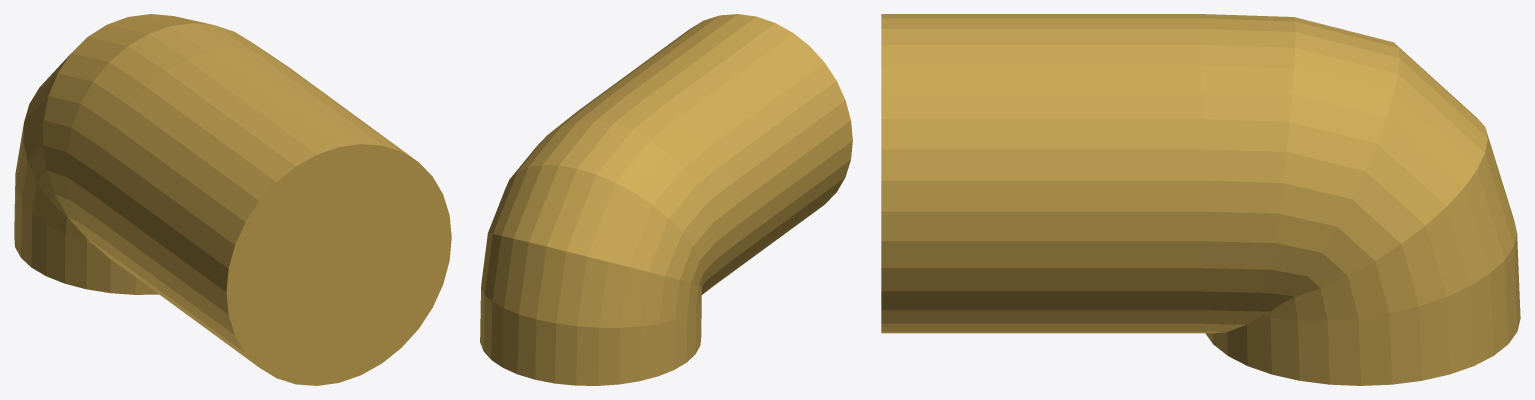
Rendered from Engine-railing2.glb.
3 renders of one model, left to right at view 1: azimuth 30°, elevation 25°; view 2: azimuth 150°, elevation 25°; view 3: azimuth 270°, elevation 25°, orthographic. The views are drawn at different scales.
Visible parts, largest first — view 1: Cylinder.001; view 2: Cylinder.001; view 3: Cylinder.001.
Part boxes in pixels (<box>): Cylinder.001: <box>14,14,451,385</box>; Cylinder.001: <box>480,14,852,385</box>; Cylinder.001: <box>881,14,1520,385</box>.
Bounding box in the file's own units: 0.4 × 0.4011 × 0.8.
